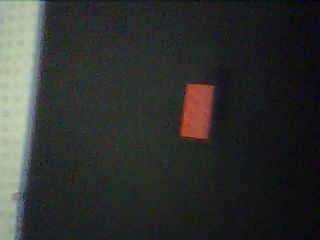lego: (176, 80, 217, 141)
